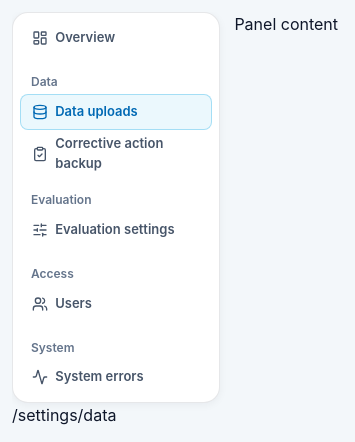
SettingsLayout › changes the address when a section is clicked
Click the link "Users" at (62, 303), box 32,295 -> 92,312
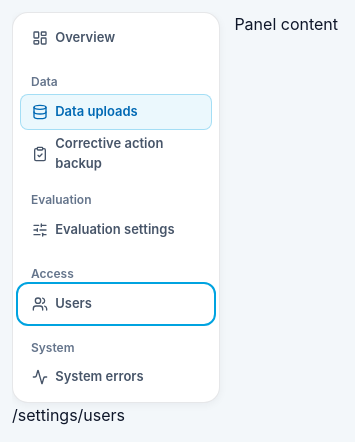
Expected: the text with test id "address" reads "/settings/users", 12,405 -> 125,425
